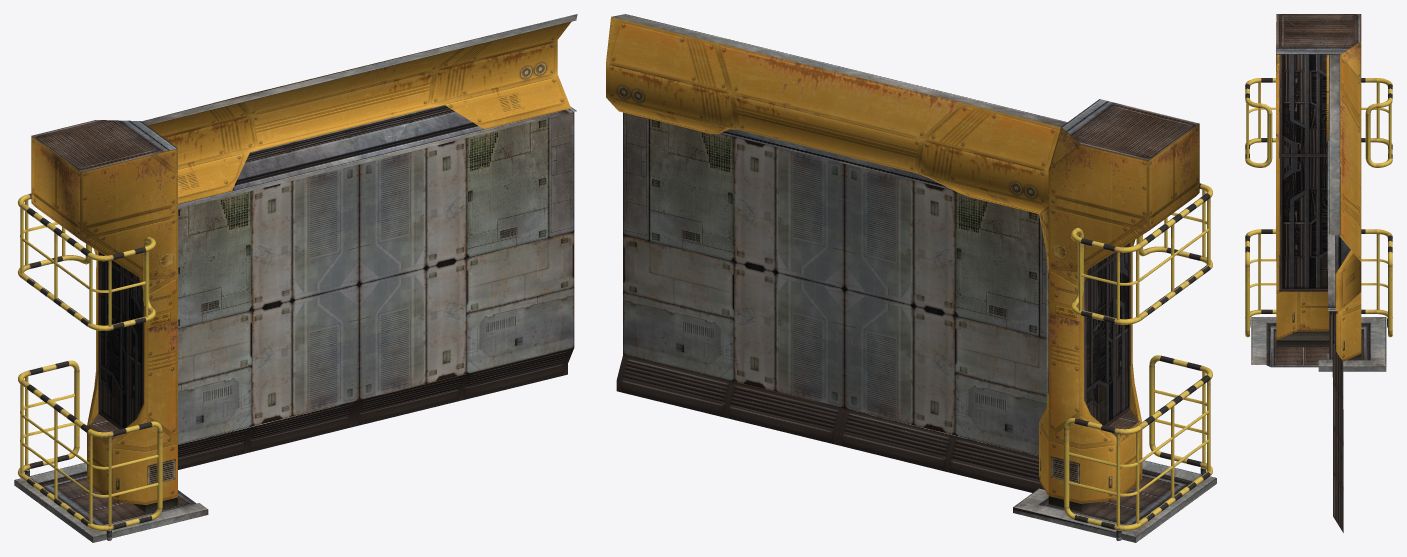
Rendered from ARC_Pilar_Pipes_SideTurn02.FBX.
3 views of the same model, side by side, from view 1: azimuth 30°, elevation 25°; view 2: azimuth 150°, elevation 25°; view 3: azimuth 270°, elevation 25° (orthographic). The views are drawn at different scales.
Parts seen in each view (by area): view 1: ARC_Pilar_Pipes_SideTurn02; view 2: ARC_Pilar_Pipes_SideTurn02; view 3: ARC_Pilar_Pipes_SideTurn02.
Boxes of the visible parts, x1,y1,x2,y2 form: ARC_Pilar_Pipes_SideTurn02: (14, 14, 577, 542); ARC_Pilar_Pipes_SideTurn02: (606, 14, 1216, 542); ARC_Pilar_Pipes_SideTurn02: (1245, 14, 1392, 532).
Bounding box in the file's own units: 624 × 401 × 174.
Materials: 1 (1 with a texture image).
